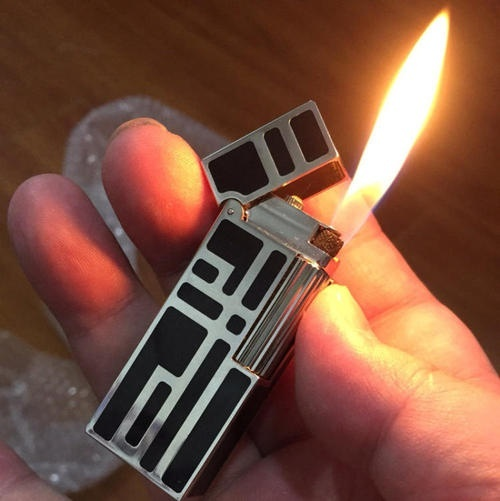fire: (338, 0, 453, 221)
